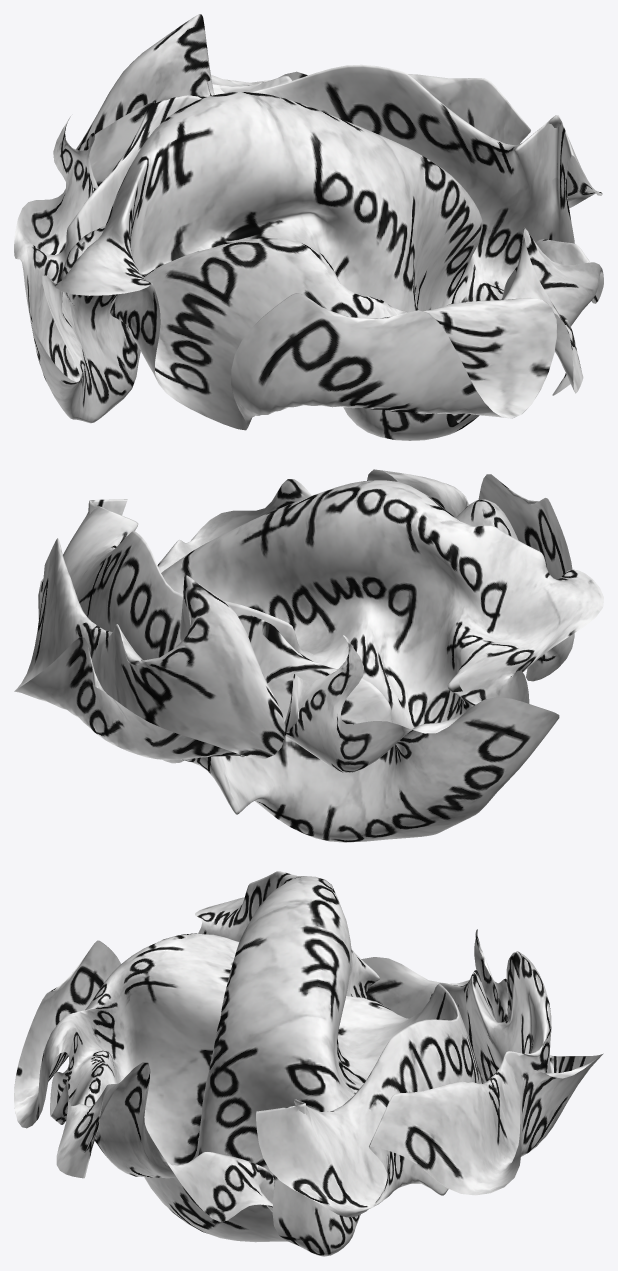
File: PaperFF.fbx
3 views of the same model, one above another, from view 1: azimuth 30°, elevation 25°; view 2: azimuth 150°, elevation 25°; view 3: azimuth 270°, elevation 25° (orthographic). The views are drawn at different scales.
Parts seen in each view (by area): view 1: Plane; view 2: Plane; view 3: Plane.
Boxes of the visible parts, bbox=[...] form: Plane: bbox=[14, 14, 603, 440]; Plane: bbox=[14, 469, 603, 842]; Plane: bbox=[14, 871, 603, 1256].
Bounding box in the file's own units: 62.92 × 34.83 × 66.39.
